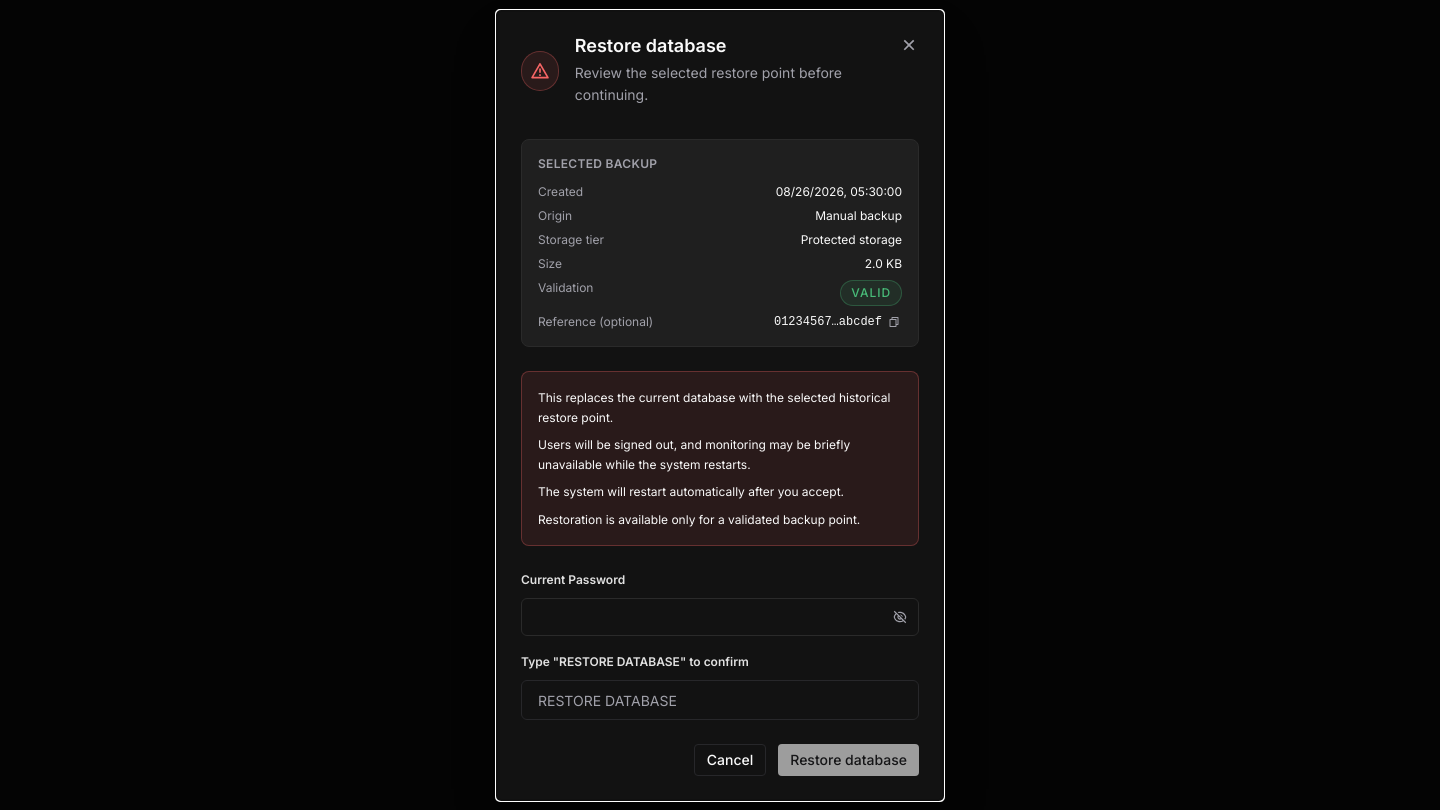
RestoreConfirmModal › keeps the submit button disabled until both the password and exact confirmation are present
Expected: the button "Restore database" is disabled, 778,744 -> 919,776
Type "hunter2" into the password field labelled "Current Password" at (720, 616), box 521,598 -> 919,636
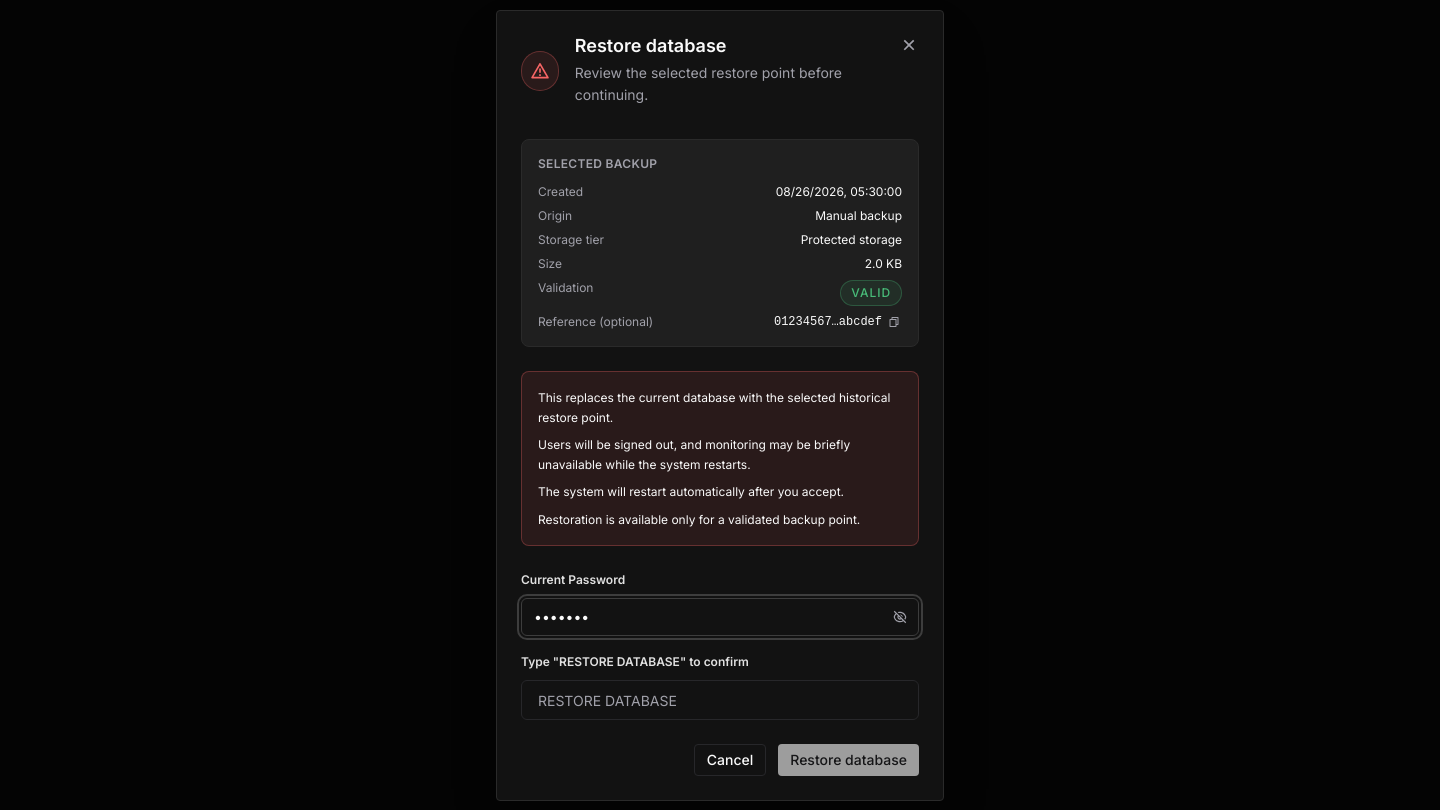
Expected: the button "Restore database" is disabled, 778,744 -> 919,776
Type "RESTORE DATABASE!" into the field labelled "Type \"RESTORE DATABASE\" to confirm" at (720, 700), box 521,680 -> 919,720
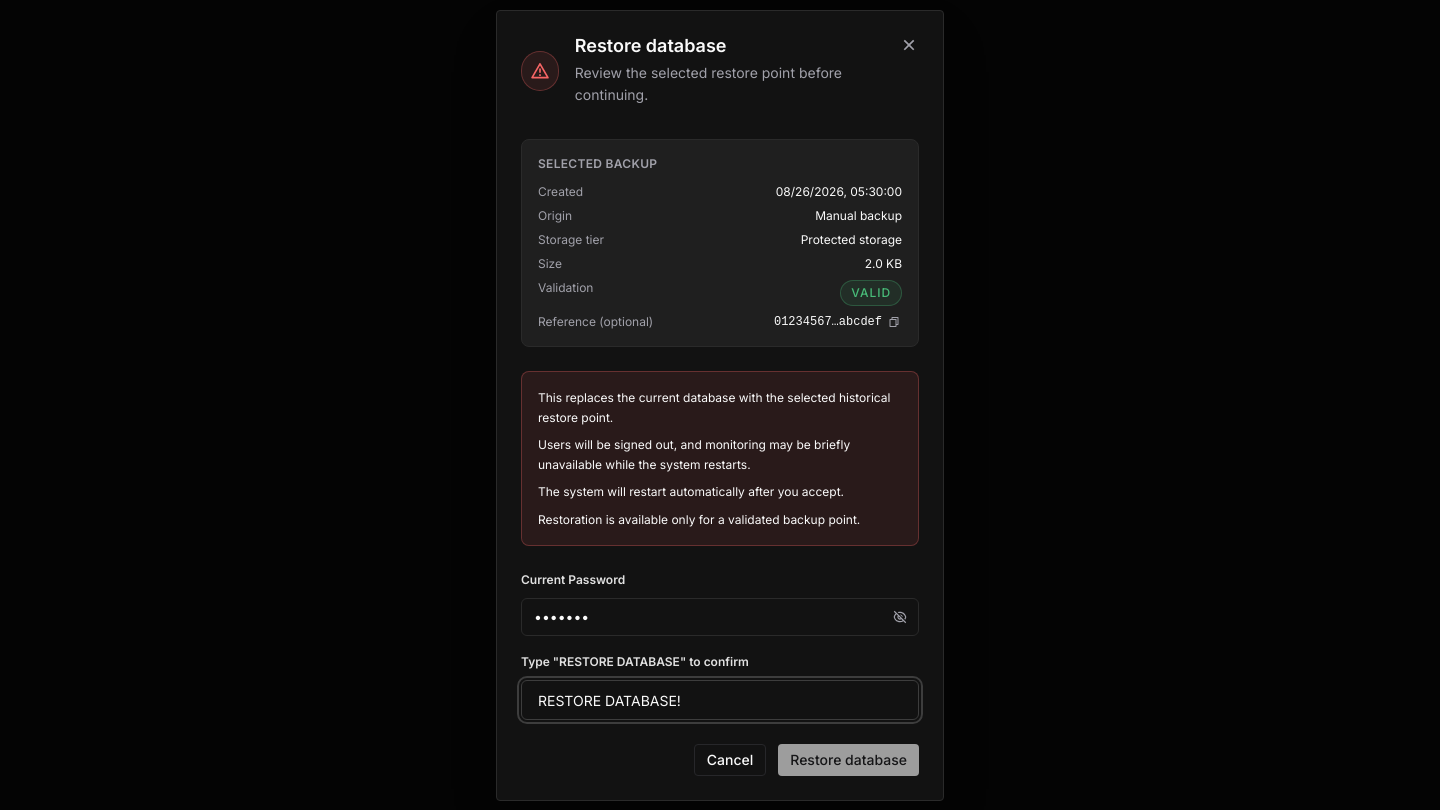
Expected: the button "Restore database" is disabled, 778,744 -> 919,776
Replace the text in the field labelled "Type \"RESTORE DATABASE\" to confirm" with "RESTORE DATABASE" at (720, 700), box 521,680 -> 919,720
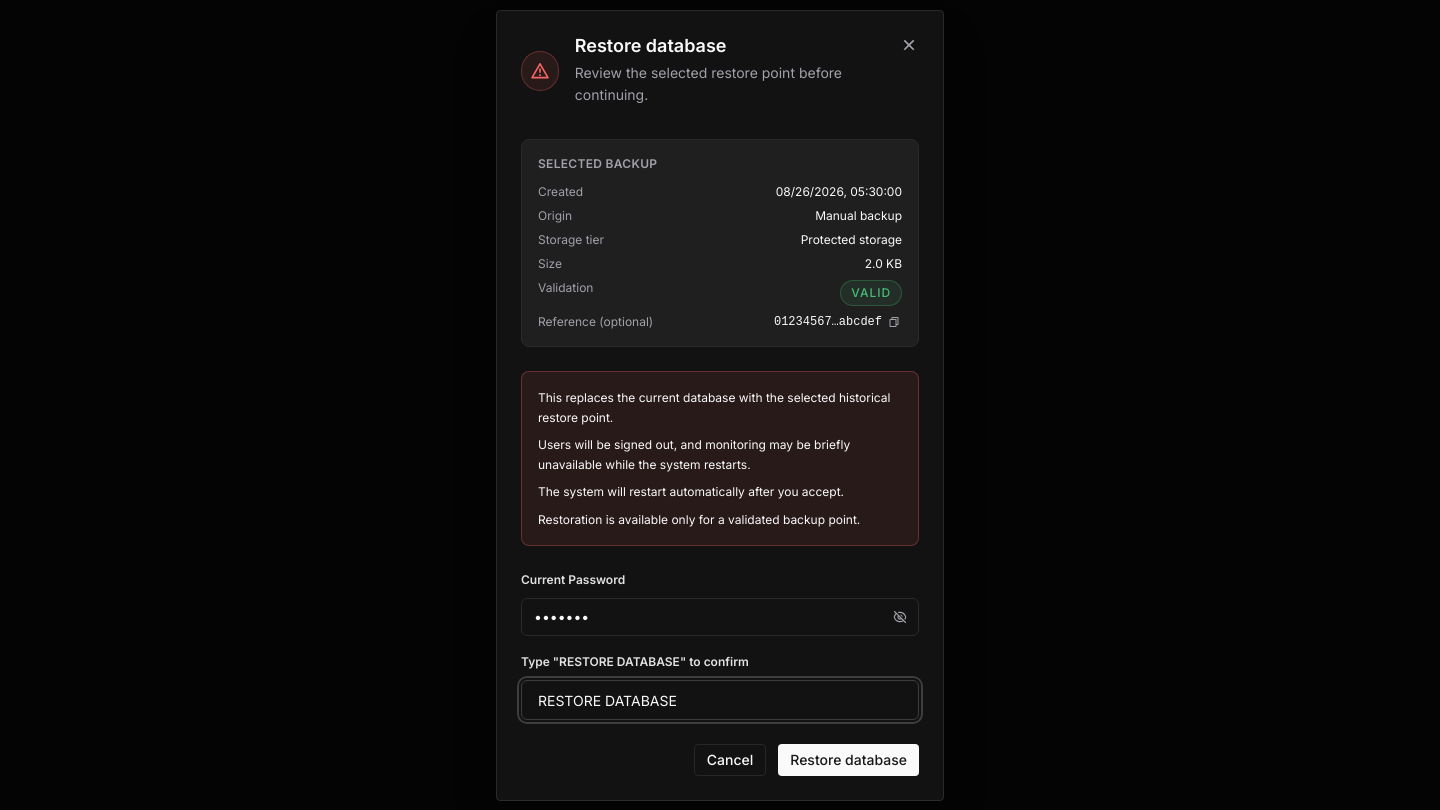
Result: the button "Restore database" is enabled at 778,744 -> 919,776
